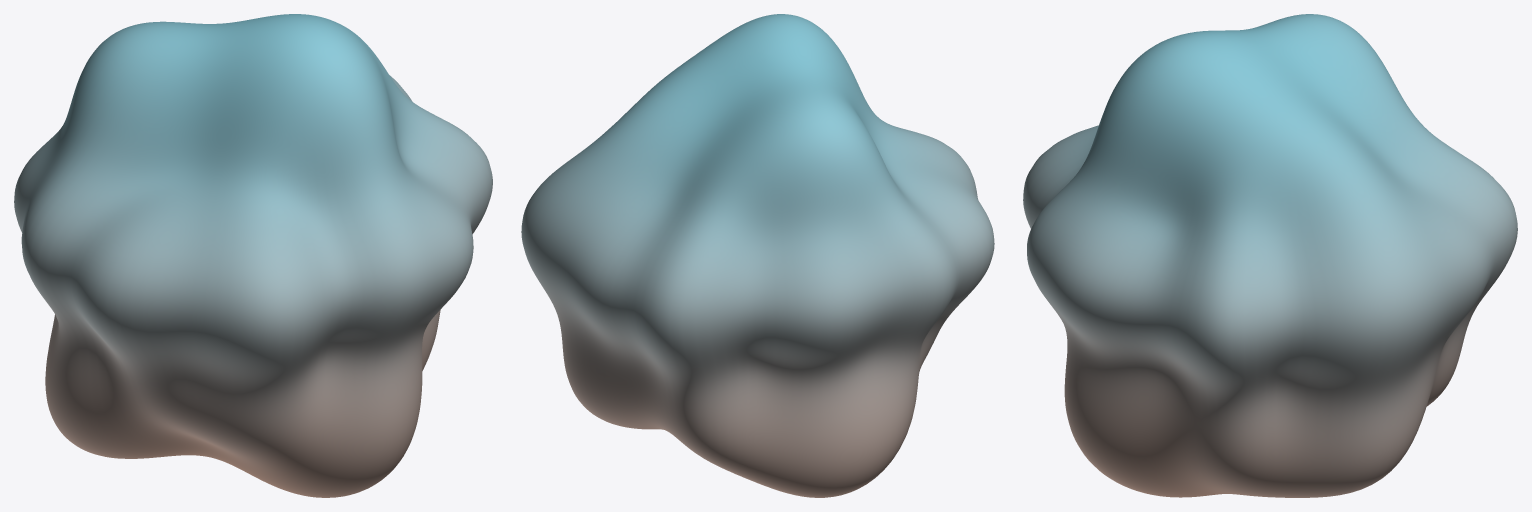
3 views of the same model, side by side, from view 1: azimuth 30°, elevation 25°; view 2: azimuth 150°, elevation 25°; view 3: azimuth 270°, elevation 25° (orthographic). The views are drawn at different scales.
Bounding box in the file's own units: 0.1315 × 0.133 × 0.1333.
